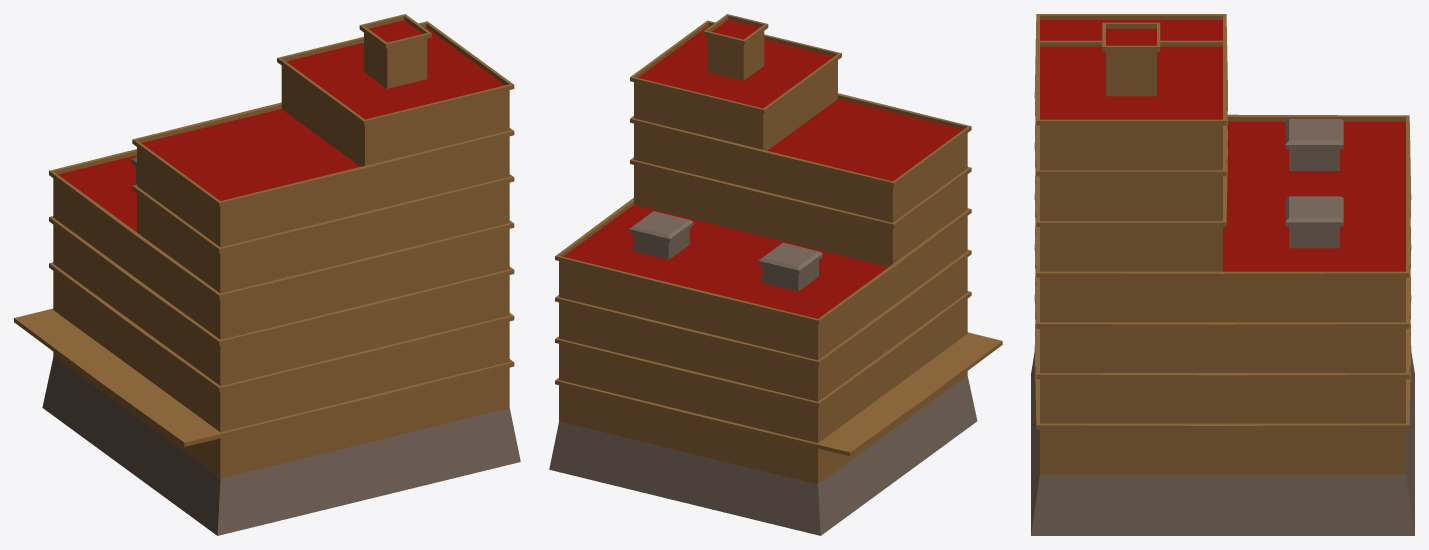
File: house [4].FBX
3 views of the same model, side by side, from view 1: azimuth 30°, elevation 25°; view 2: azimuth 150°, elevation 25°; view 3: azimuth 270°, elevation 25° (orthographic). The views are drawn at different scales.
Parts seen in each view (by area): view 1: Plane001; view 2: Plane001; view 3: Plane001.
Boxes of the visible parts, left/top/right/bottom form: Plane001: left=14, top=14, right=520, bottom=535; Plane001: left=549, top=14, right=1002, bottom=535; Plane001: left=1031, top=14, right=1414, bottom=535.
Size of the model in its own units: 164 by 196 by 149.
